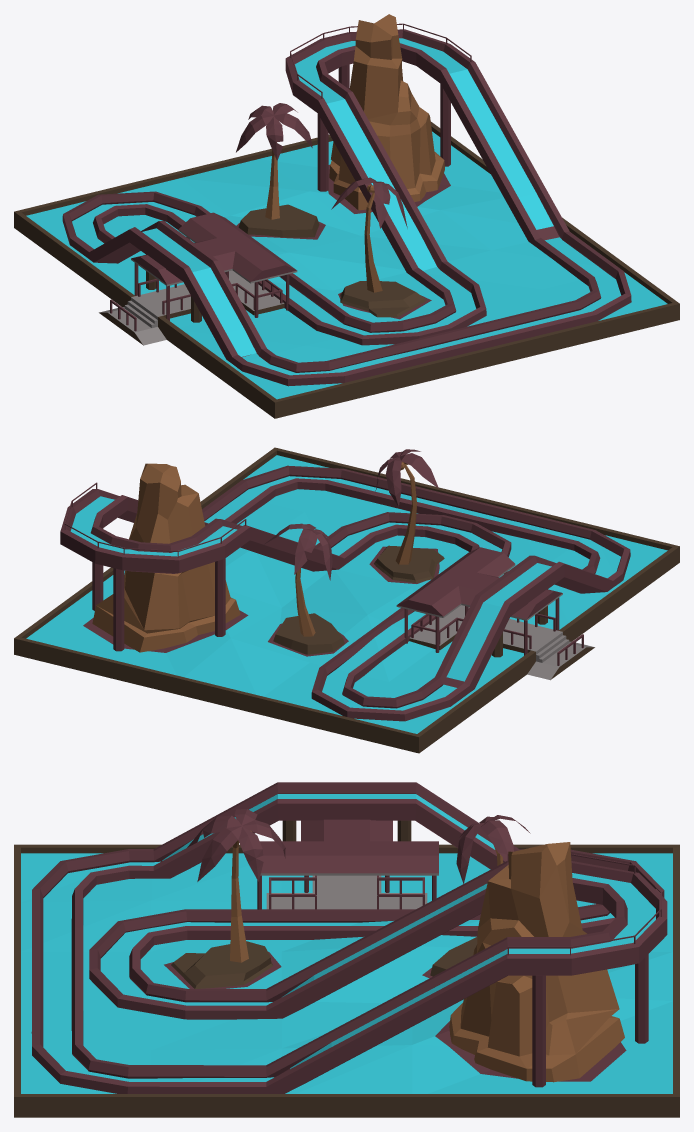
The model's file is amusement-park-water-ride.glb.
3 views of the same model, one above another, from view 1: azimuth 30°, elevation 25°; view 2: azimuth 150°, elevation 25°; view 3: azimuth 270°, elevation 25° (orthographic). The views are drawn at different scales.
Visible parts, largest first — view 1: water-ride; view 2: water-ride; view 3: water-ride.
Boxes of the visible parts, x1,y1,x2,y2 form: water-ride: (14, 14, 679, 418); water-ride: (14, 447, 679, 753); water-ride: (14, 782, 679, 1117).
Size of the model in its own units: 27.5 by 10.78 by 29.
